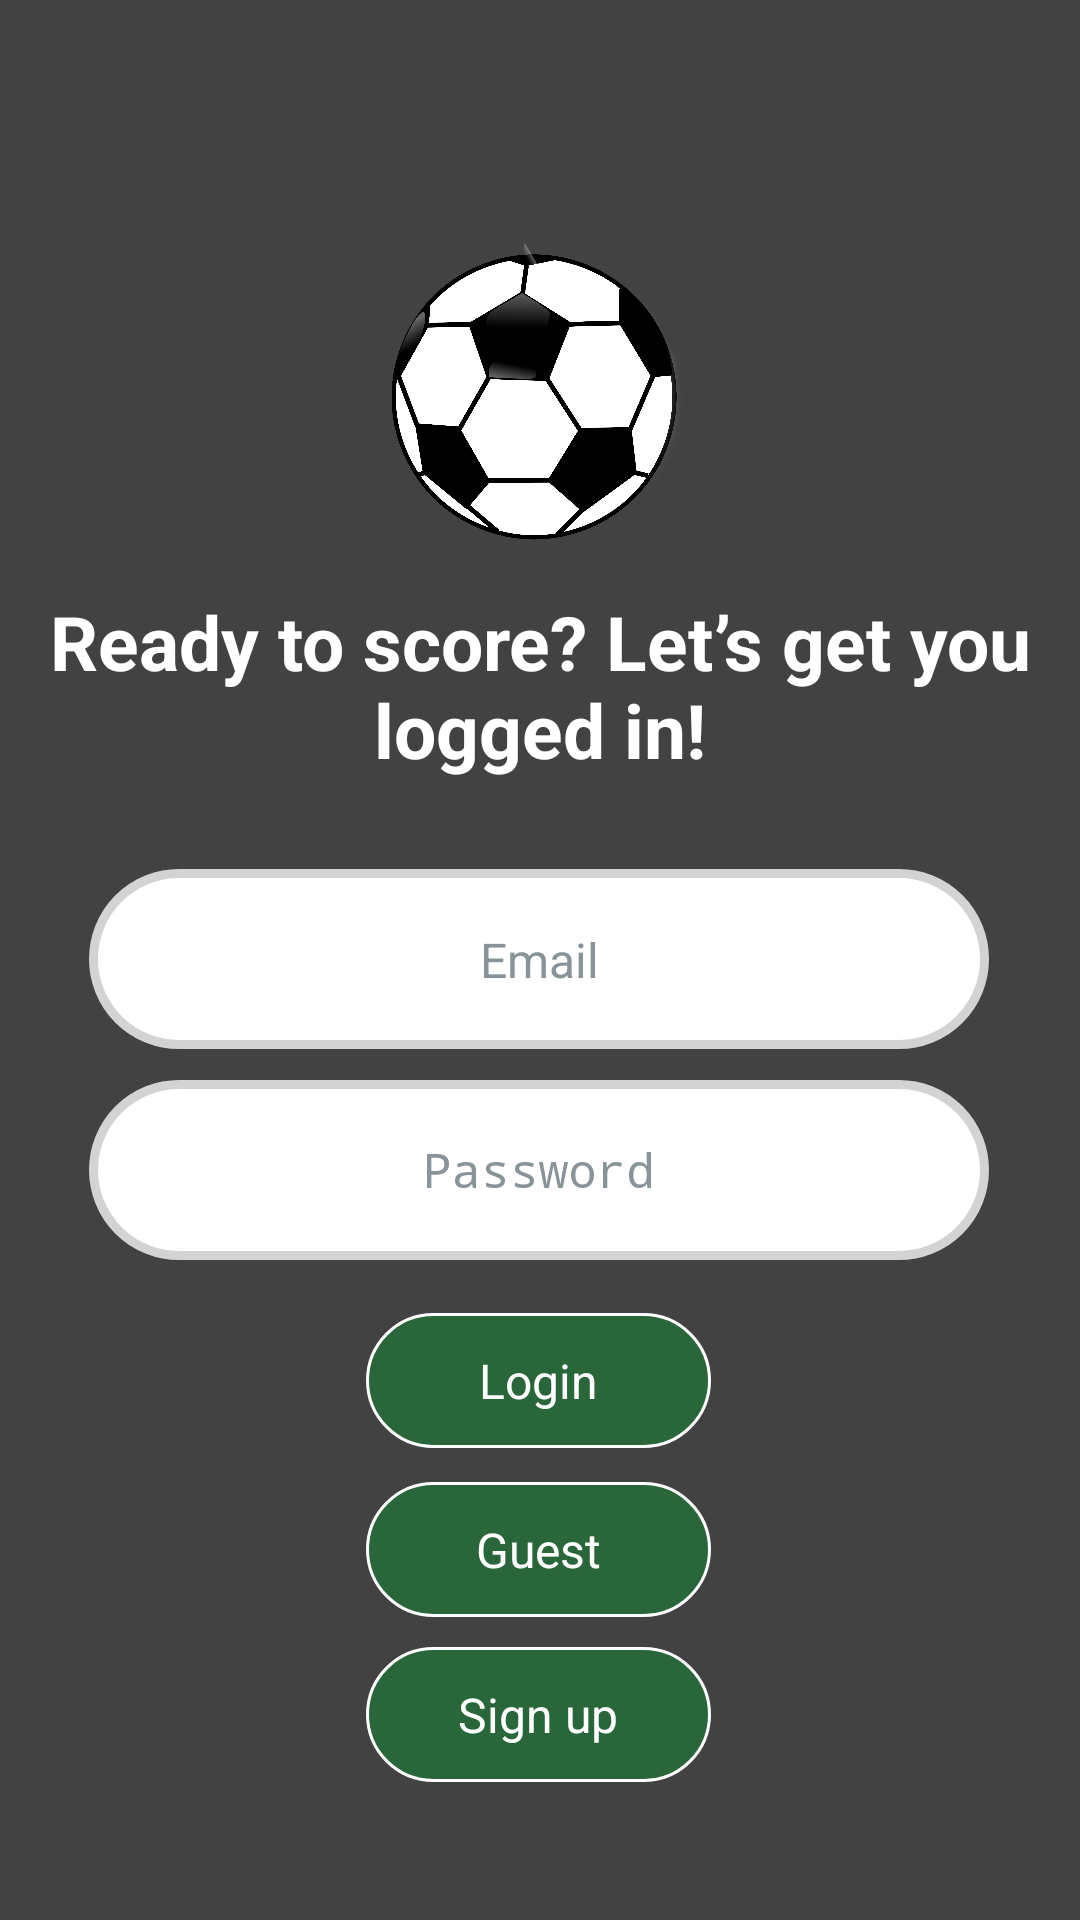

Named icons in this screenshot (1080*1920) and their centers, [x,y]:
ball: [534,391]
